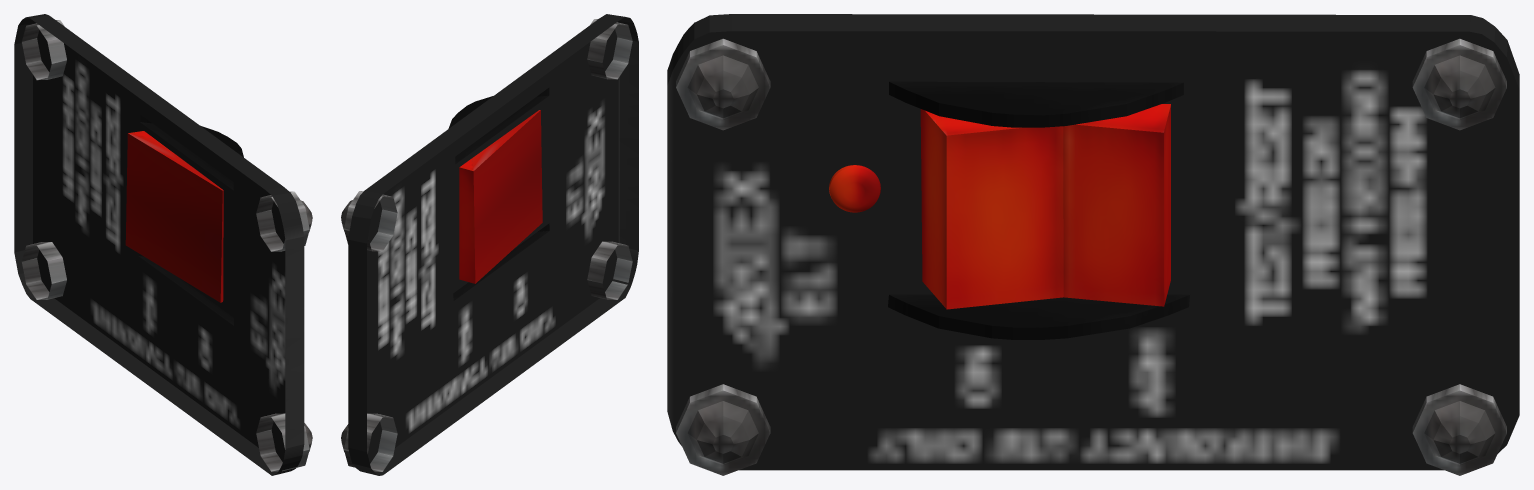
The model's file is elt-fg1000.gltf.
3 views of the same model, side by side, from view 1: azimuth 30°, elevation 25°; view 2: azimuth 150°, elevation 25°; view 3: azimuth 270°, elevation 25° (orthographic). The views are drawn at different scales.
Parts seen in each view (by area): view 1: eltpanel, ELTSwitch, eltbolts; view 2: eltpanel, ELTSwitch, eltbolts; view 3: eltpanel, ELTSwitch, eltbolts, eltlamp.
Boxes of the visible parts, x1,y1,x2,y2 form: eltpanel: [14, 14, 304, 475]; ELTSwitch: [125, 131, 223, 302]; eltbolts: [22, 20, 312, 471]; eltpanel: [348, 14, 638, 475]; ELTSwitch: [459, 110, 542, 283]; eltbolts: [341, 19, 632, 471]; eltpanel: [667, 14, 1519, 470]; ELTSwitch: [920, 104, 1170, 309]; eltbolts: [676, 38, 1506, 475]; eltlamp: [829, 165, 880, 212].
Size of the model in its own units: 0.00879 by 0.0383 by 0.067.
Materials: 1 (1 with a texture image).
